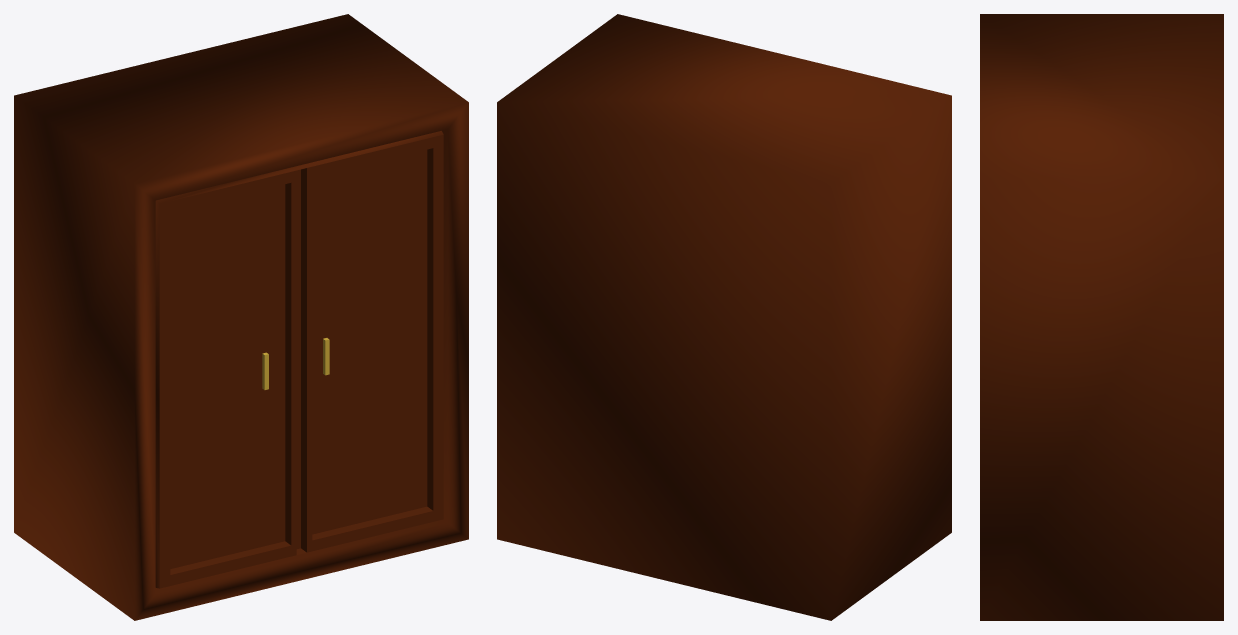
Rendered from Blockout_Dresser_05.fbx.
3 views of the same model, side by side, from view 1: azimuth 30°, elevation 25°; view 2: azimuth 150°, elevation 25°; view 3: azimuth 270°, elevation 25° (orthographic).
Visible parts, largest first — view 1: pCube5; view 2: pCube5; view 3: pCube5.
Part boxes in pixels (x1,y1,x2,y2): pCube5: (14, 14, 468, 620); pCube5: (497, 14, 951, 620); pCube5: (980, 14, 1223, 620).
Bounding box in the file's own units: 80 × 100 × 50.
